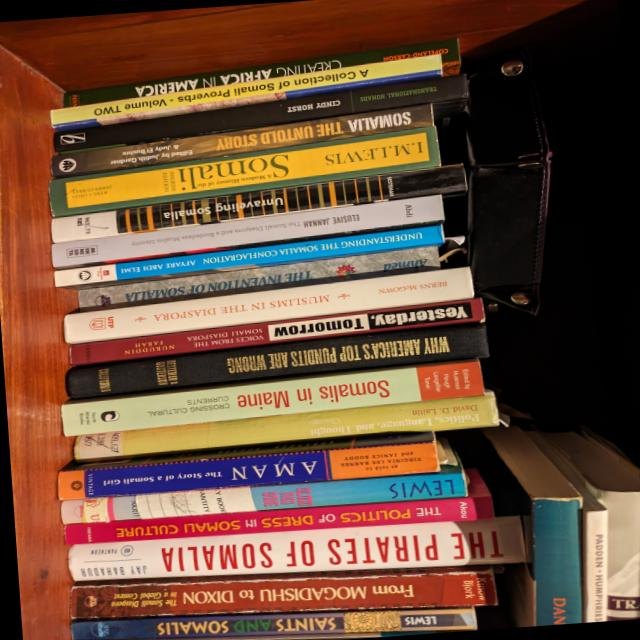book: (50, 73, 471, 163), (45, 125, 440, 218), (61, 467, 493, 548), (62, 321, 487, 400), (58, 358, 483, 437), (60, 265, 473, 346), (48, 163, 466, 243), (70, 389, 498, 465), (48, 52, 443, 133), (66, 515, 524, 584), (48, 193, 444, 271), (58, 453, 468, 525), (49, 103, 434, 179), (66, 296, 483, 366), (61, 38, 460, 107), (55, 431, 439, 501), (51, 224, 444, 291), (67, 565, 495, 622), (75, 244, 439, 308), (69, 606, 475, 640)
